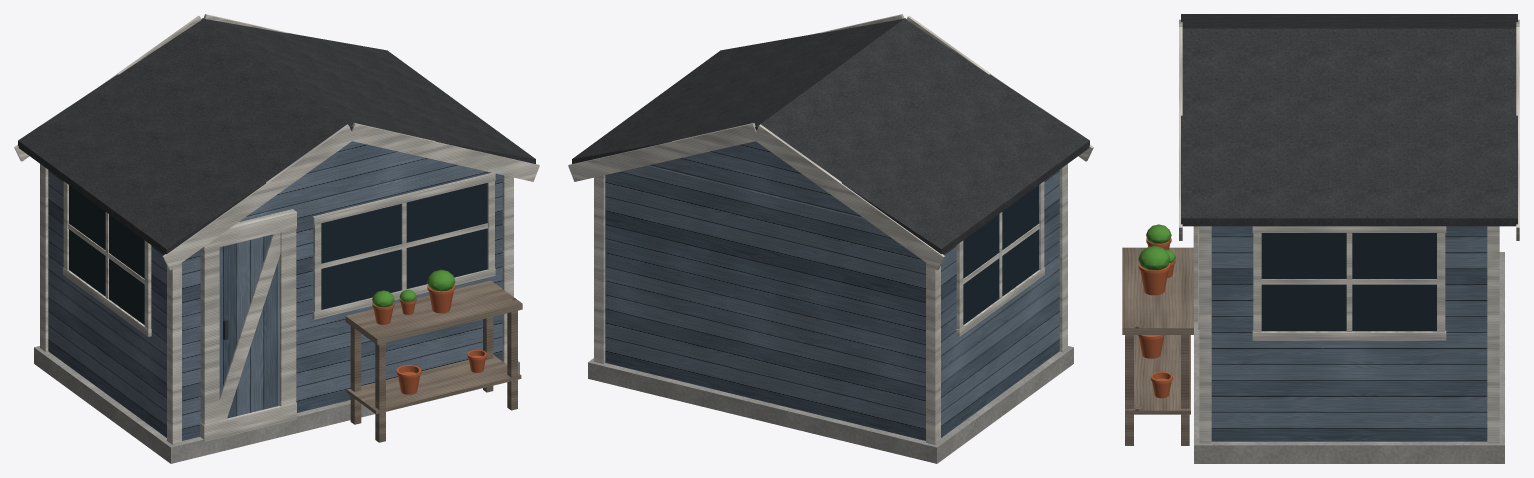
File: potting-shed.glb
3 renders of one model, left to right at view 1: azimuth 30°, elevation 25°; view 2: azimuth 150°, elevation 25°; view 3: azimuth 270°, elevation 25°, orthographic. The views are drawn at different scales.
Visible parts, largest first — view 1: Potting_Shed; view 2: Potting_Shed; view 3: Potting_Shed.
Boxes of the visible parts, box(x1,y1,x2,y2) form: Potting_Shed: box(14, 14, 539, 463); Potting_Shed: box(568, 14, 1093, 463); Potting_Shed: box(1122, 14, 1519, 463).
Bounding box in the file's own units: 3.36 × 2.57 × 2.71.
Materials: 10 (6 with a texture image).
